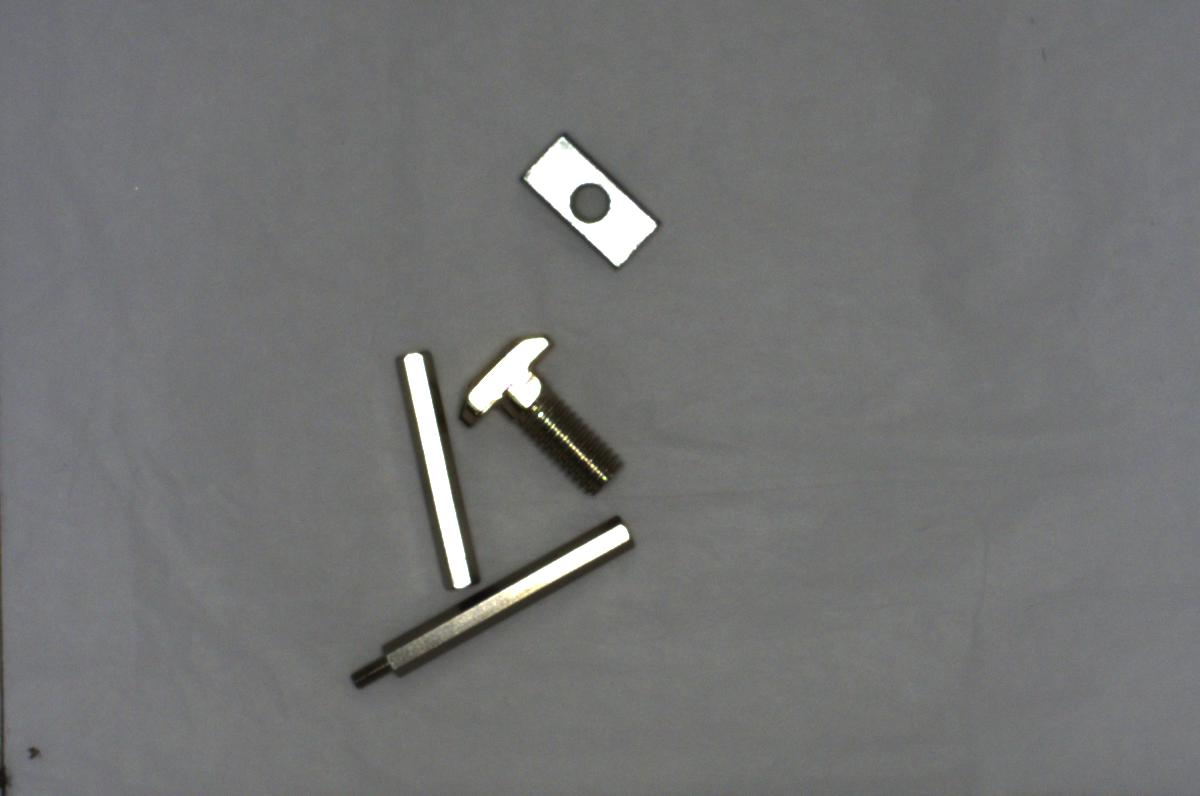Double hexagonal column: (388, 338, 480, 590)
Hexagonal steel column: (327, 513, 642, 699)
Rectangular nut: (517, 126, 657, 262)
T-shaped screw: (458, 328, 622, 488)
